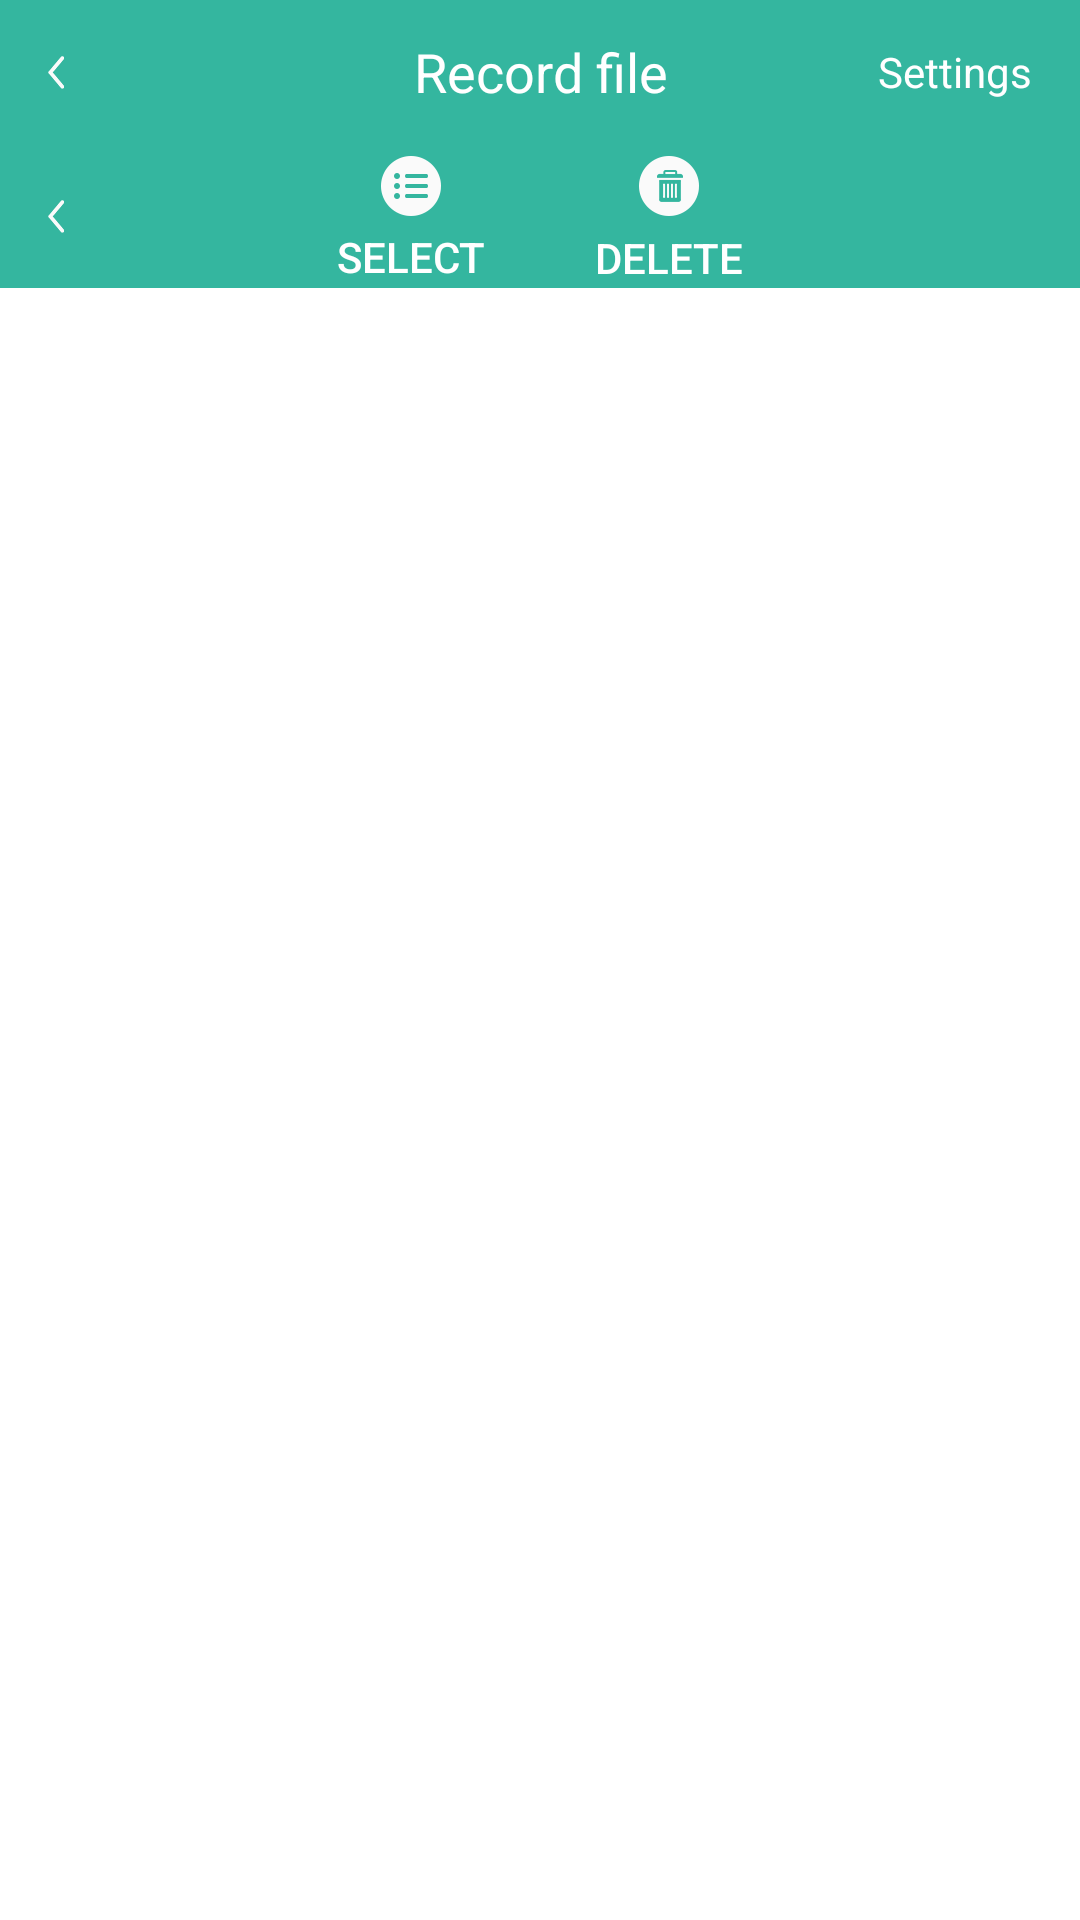

Where icons sit on this 1080w x 1920h app screen, as BBox(x1, y1, x2, y2):
back: BBox(48, 56, 64, 89), BBox(48, 200, 64, 233)
